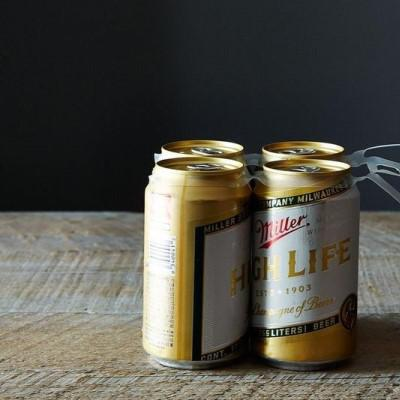beer: (143, 141, 365, 370)
